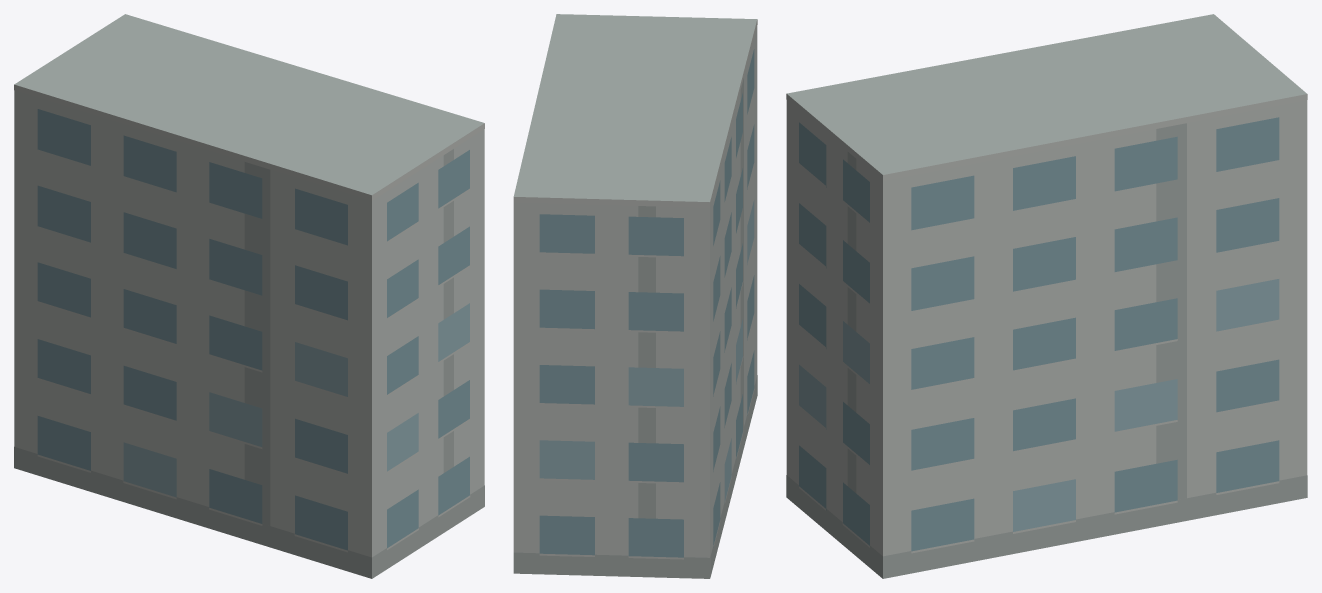
The model's file is survey-upis-32894552.glb.
3 views of the same model, side by side, from view 1: azimuth 30°, elevation 25°; view 2: azimuth 150°, elevation 25°; view 3: azimuth 270°, elevation 25° (orthographic). The views are drawn at different scales.
Parts seen in each view (by area): view 1: survey-upis-32894552.tmp; view 2: survey-upis-32894552.tmp; view 3: survey-upis-32894552.tmp.
Part boxes in pixels (x1,y1,x2,y2): survey-upis-32894552.tmp: [14, 14, 484, 578]; survey-upis-32894552.tmp: [513, 14, 757, 578]; survey-upis-32894552.tmp: [786, 14, 1307, 578].
Size of the model in its own units: 13.65 by 15.95 by 18.66.
